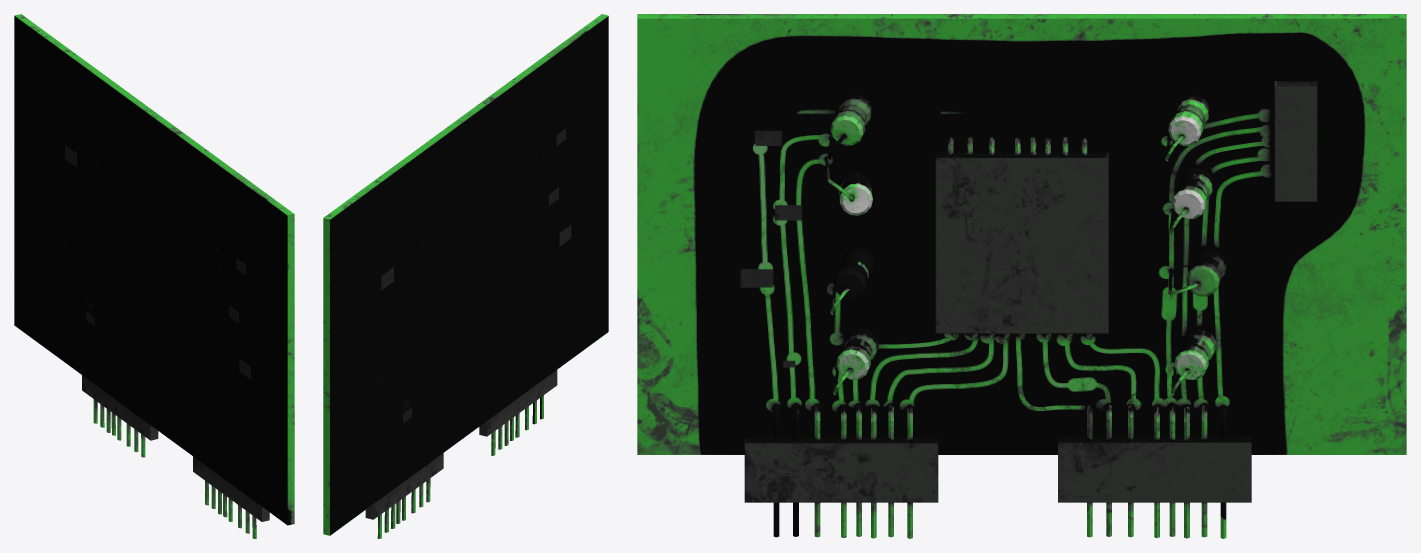
File: DayZed_AS_GreenCircuit.fbx
3 renders of one model, left to right at view 1: azimuth 30°, elevation 25°; view 2: azimuth 150°, elevation 25°; view 3: azimuth 270°, elevation 25°, orthographic. The views are drawn at different scales.
Parts seen in each view (by area): view 1: model_0; view 2: model_0; view 3: model_0.
Boxes of the visible parts, bbox=[...] form: model_0: bbox=[14, 14, 294, 538]; model_0: bbox=[323, 14, 608, 538]; model_0: bbox=[637, 14, 1406, 538].
Size of the model in its own units: 24.16 by 147 by 200.
